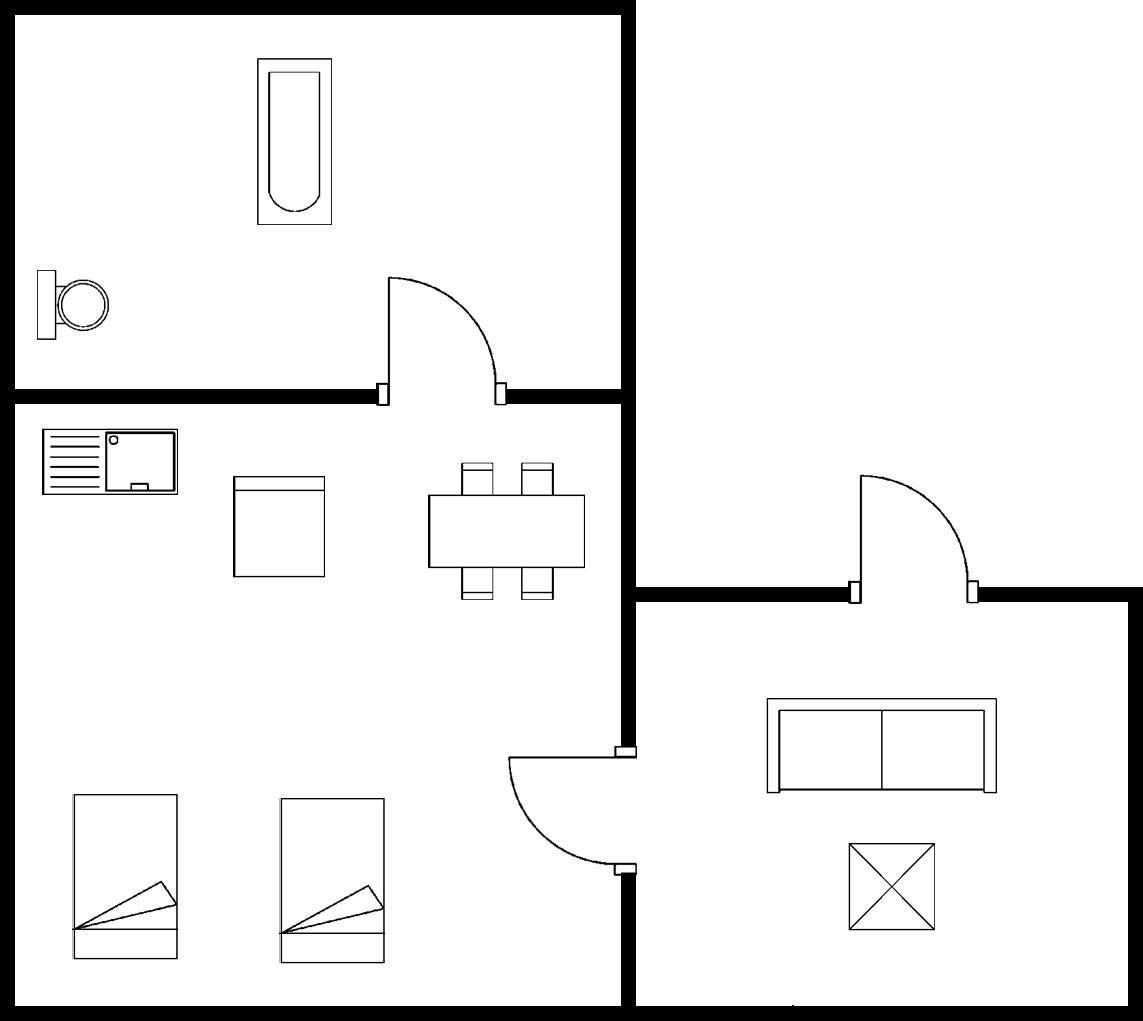bed: (274, 792, 390, 967), (69, 789, 183, 964)
dining_table: (423, 455, 588, 605)
sink: (37, 423, 186, 501)
sofa: (759, 691, 1001, 799)
toilet: (32, 266, 113, 349)
tub: (252, 52, 337, 231)
